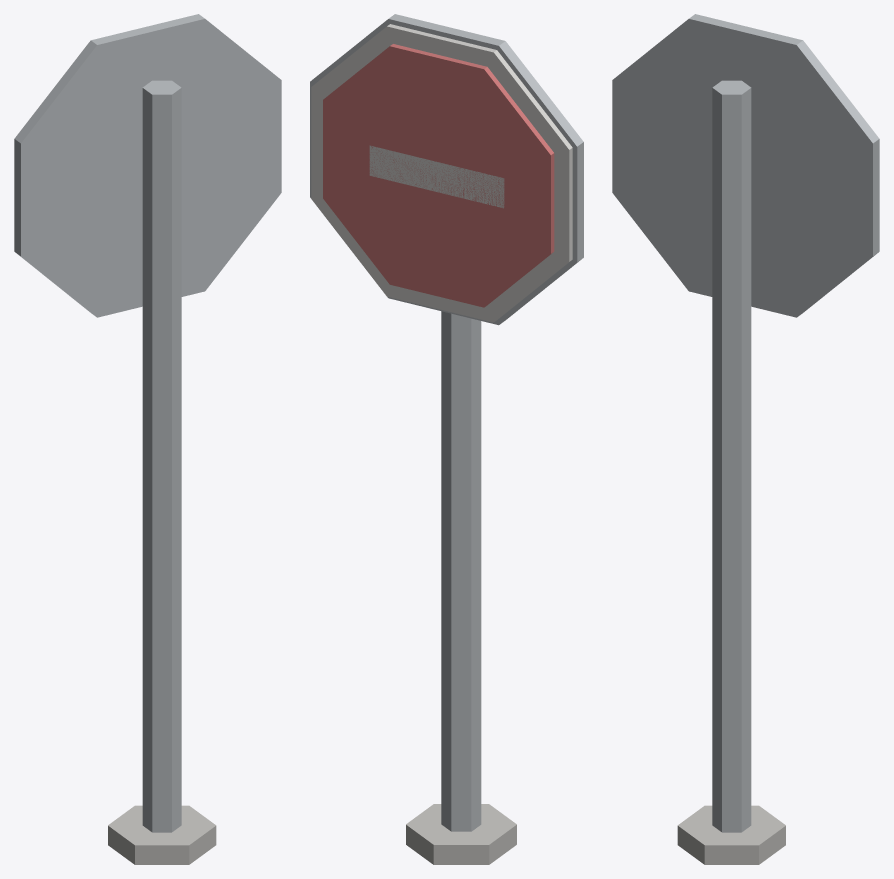
File: mobiliario__placa_pare.glb
The picture shows the model from 3 angles, left to right: view 1: azimuth 30°, elevation 25°; view 2: azimuth 150°, elevation 25°; view 3: azimuth 330°, elevation 25°; orthographic projection. The views are drawn at different scales.
Parts seen in each view (by area): view 1: mobiliario__placa_pare; view 2: mobiliario__placa_pare; view 3: mobiliario__placa_pare.
Part boxes in pixels (<box>): mobiliario__placa_pare: <box>14,14,281,864</box>; mobiliario__placa_pare: <box>310,14,583,864</box>; mobiliario__placa_pare: <box>612,14,879,864</box>.
Bounding box in the file's own units: 0.2772 × 0.8186 × 0.1.
